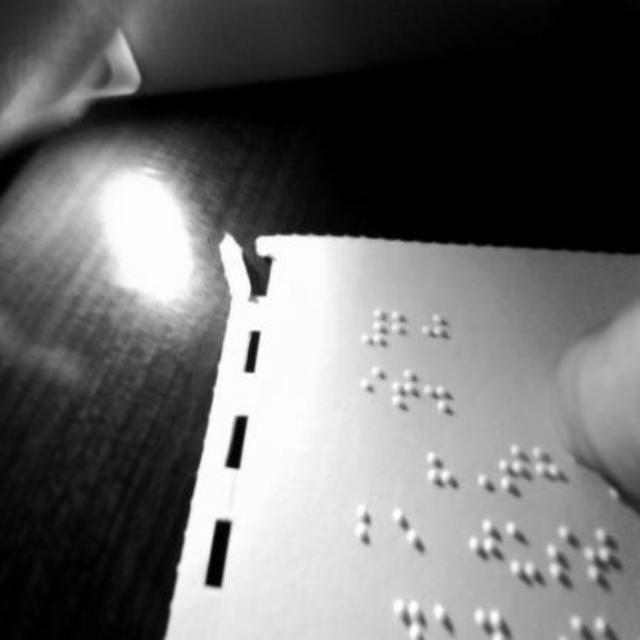braiile: (464, 516, 502, 592), (503, 516, 543, 584), (390, 505, 426, 575), (545, 522, 583, 588), (495, 434, 533, 498), (584, 525, 616, 595), (356, 505, 388, 571), (390, 362, 422, 426), (532, 441, 564, 499), (358, 365, 387, 423), (392, 306, 421, 358), (422, 309, 448, 359)
